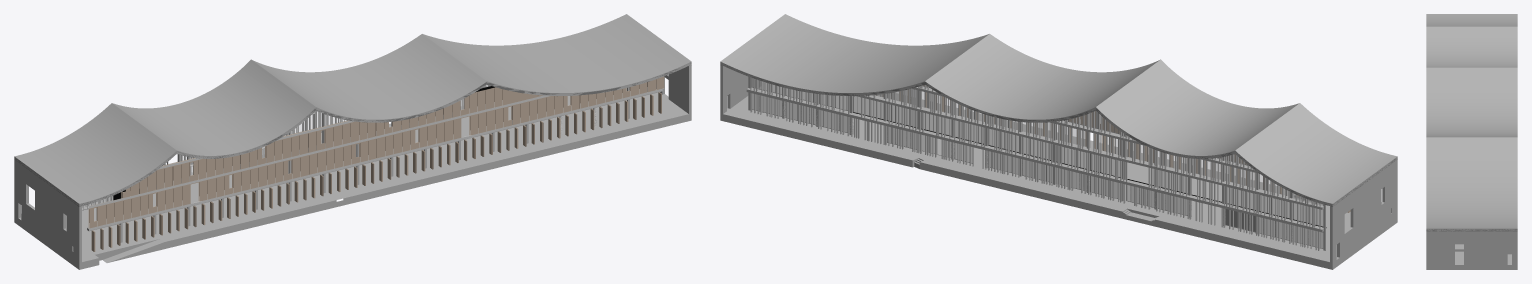
The model's file is 0828-site1.3-outside.glb.
The picture shows the model from 3 angles, left to right: view 1: azimuth 30°, elevation 25°; view 2: azimuth 150°, elevation 25°; view 3: azimuth 270°, elevation 25°; orthographic projection. The views are drawn at different scales.
Visible parts, largest first — view 1: roof, ground, facede-front, Layer0, doors, wall-outside, facade-back; view 2: roof, facade-back, ground, wall-outside, Layer0, facede-front; view 3: roof, wall-outside, ground.
Boxes of the visible parts, x1=… form: roof: x1=14, y1=14, x2=691, y2=206; ground: x1=14, y1=87, x2=691, y2=269; facede-front: x1=87, y1=76, x2=664, y2=242; Layer0: x1=88, y1=88, x2=662, y2=251; doors: x1=93, y1=78, x2=660, y2=221; wall-outside: x1=14, y1=65, x2=691, y2=262; facade-back: x1=82, y1=85, x2=490, y2=210; roof: x1=720, y1=14, x2=1397, y2=206; facade-back: x1=746, y1=76, x2=1327, y2=250; ground: x1=720, y1=82, x2=1397, y2=269; wall-outside: x1=720, y1=65, x2=1397, y2=262; Layer0: x1=882, y1=89, x2=1350, y2=212; facede-front: x1=893, y1=85, x2=1266, y2=190; roof: x1=1426, y1=14, x2=1517, y2=231; wall-outside: x1=1426, y1=231, x2=1517, y2=264; ground: x1=1426, y1=244, x2=1517, y2=269.
Bounding box in the file's own units: 109 × 17.82 × 19.95.
